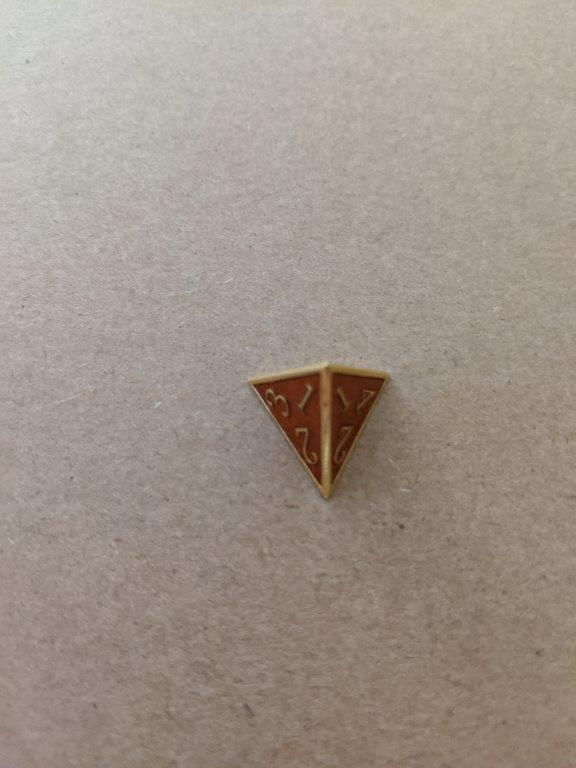d4-1: (244, 357, 392, 502)
